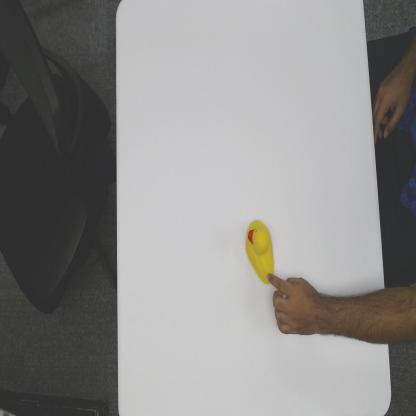Arm: (317, 290, 389, 346)
Duck: (244, 216, 276, 286)
Hand: (266, 270, 320, 337)
